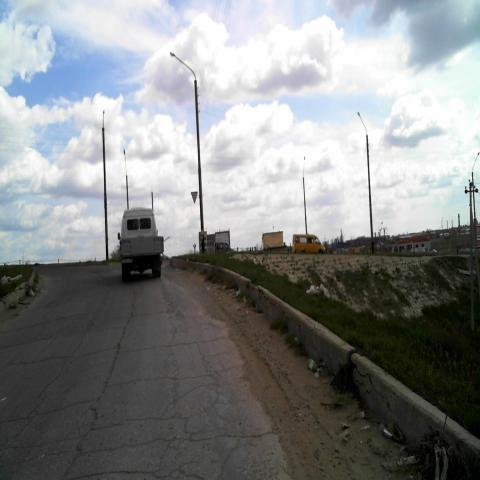2_4: (190, 190, 198, 204)
